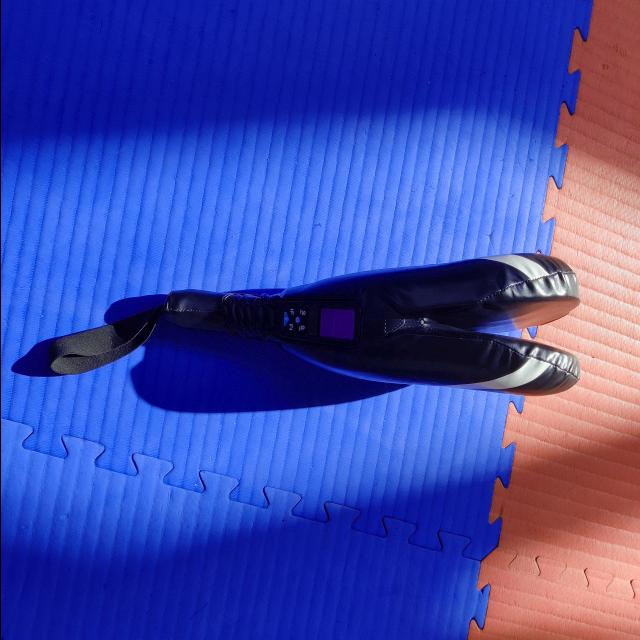paddle: (161, 248, 582, 402)
